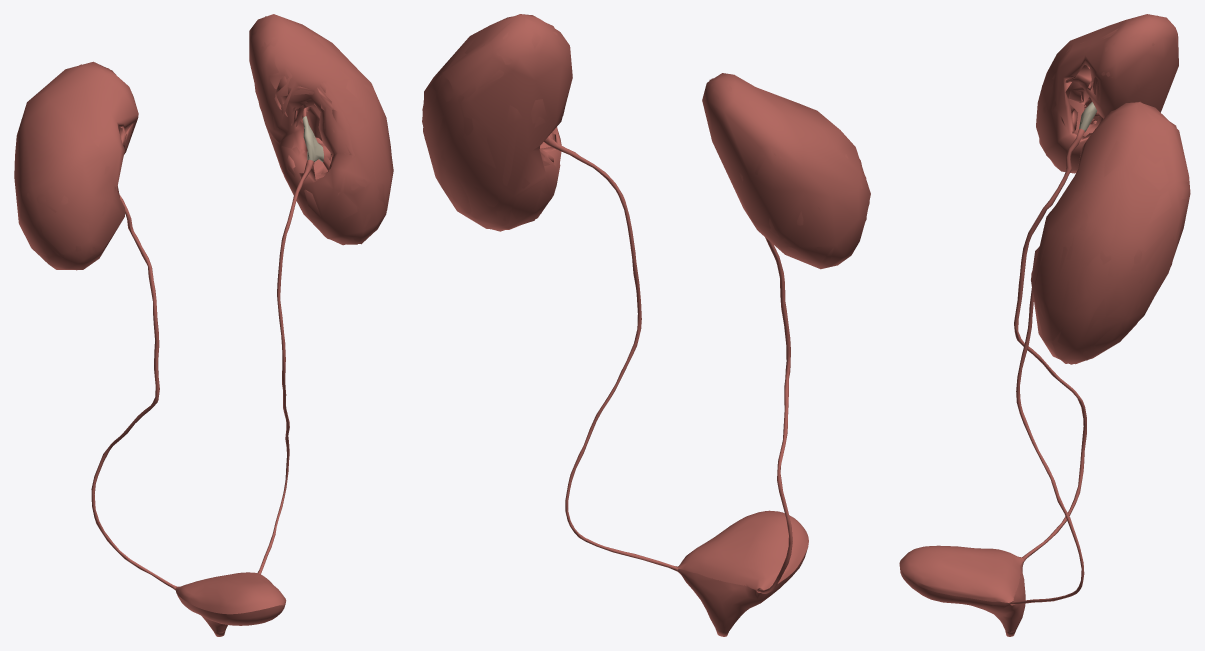
Rendered from adult_female.urinary.LOD3.glb.
The picture shows the model from 3 angles, left to right: view 1: azimuth 30°, elevation 25°; view 2: azimuth 150°, elevation 25°; view 3: azimuth 270°, elevation 25°; orthographic projection. The views are drawn at different scales.
Parts seen in each view (by area): view 1: ADULT.FEMALE.URINARY.KIDNEY_CAPSULE.R, ADULT.FEMALE.URINARY.KIDNEY_CAPSULE.L, ADULT.FEMALE.URINARY.FUNDUS_OF_URINARY_BLADDER_DOME, ADULT.FEMALE.URINARY.OUTER_CORTEX_OF_KIDNEY.L, ADULT.FEMALE.URINARY.URETER.R, ADULT.FEMALE.URINARY.URETER.L, ADULT.FEMALE.URINARY.FUNDUS_OF_URINARY_BLADDER_BASE, ADULT.FEMALE.URINARY.HILUM_OF_KIDNEY.L, ADULT.FEMALE.URINARY.OUTER_CORTEX_OF_KIDNEY.R, ADULT.FEMALE.URINARY.RENAL_PELVIS.L; view 2: ADULT.FEMALE.URINARY.KIDNEY_CAPSULE.R, ADULT.FEMALE.URINARY.KIDNEY_CAPSULE.L, ADULT.FEMALE.URINARY.FUNDUS_OF_URINARY_BLADDER_DOME, ADULT.FEMALE.URINARY.OUTER_CORTEX_OF_KIDNEY.L, ADULT.FEMALE.URINARY.FUNDUS_OF_URINARY_BLADDER_BASE, ADULT.FEMALE.URINARY.URETER.L, ADULT.FEMALE.URINARY.URETER.R; view 3: ADULT.FEMALE.URINARY.KIDNEY_CAPSULE.L, ADULT.FEMALE.URINARY.KIDNEY_CAPSULE.R, ADULT.FEMALE.URINARY.OUTER_CORTEX_OF_KIDNEY.L, ADULT.FEMALE.URINARY.FUNDUS_OF_URINARY_BLADDER_DOME, ADULT.FEMALE.URINARY.URETER.R, ADULT.FEMALE.URINARY.FUNDUS_OF_URINARY_BLADDER_BASE, ADULT.FEMALE.URINARY.URETER.L, ADULT.FEMALE.URINARY.HILUM_OF_KIDNEY.R.
Part boxes in pixels (left/top/right/bottom): ADULT.FEMALE.URINARY.KIDNEY_CAPSULE.R: left=14, top=61, right=138, bottom=270; ADULT.FEMALE.URINARY.KIDNEY_CAPSULE.L: left=249, top=14, right=393, bottom=244; ADULT.FEMALE.URINARY.FUNDUS_OF_URINARY_BLADDER_DOME: left=175, top=572, right=286, bottom=614; ADULT.FEMALE.URINARY.OUTER_CORTEX_OF_KIDNEY.L: left=254, top=16, right=391, bottom=245; ADULT.FEMALE.URINARY.URETER.R: left=91, top=194, right=176, bottom=589; ADULT.FEMALE.URINARY.URETER.L: left=257, top=159, right=313, bottom=574; ADULT.FEMALE.URINARY.FUNDUS_OF_URINARY_BLADDER_BASE: left=176, top=593, right=284, bottom=632; ADULT.FEMALE.URINARY.HILUM_OF_KIDNEY.L: left=275, top=76, right=332, bottom=179; ADULT.FEMALE.URINARY.OUTER_CORTEX_OF_KIDNEY.R: left=36, top=68, right=133, bottom=269; ADULT.FEMALE.URINARY.RENAL_PELVIS.L: left=302, top=116, right=323, bottom=162; ADULT.FEMALE.URINARY.KIDNEY_CAPSULE.R: left=702, top=73, right=870, bottom=269; ADULT.FEMALE.URINARY.KIDNEY_CAPSULE.L: left=422, top=14, right=572, bottom=229; ADULT.FEMALE.URINARY.FUNDUS_OF_URINARY_BLADDER_DOME: left=677, top=510, right=808, bottom=590; ADULT.FEMALE.URINARY.OUTER_CORTEX_OF_KIDNEY.L: left=422, top=32, right=564, bottom=231; ADULT.FEMALE.URINARY.FUNDUS_OF_URINARY_BLADDER_BASE: left=677, top=548, right=807, bottom=632; ADULT.FEMALE.URINARY.URETER.L: left=544, top=135, right=678, bottom=571; ADULT.FEMALE.URINARY.URETER.R: left=757, top=237, right=792, bottom=593; ADULT.FEMALE.URINARY.KIDNEY_CAPSULE.L: left=1031, top=101, right=1190, bottom=364; ADULT.FEMALE.URINARY.KIDNEY_CAPSULE.R: left=1036, top=14, right=1178, bottom=173; ADULT.FEMALE.URINARY.OUTER_CORTEX_OF_KIDNEY.L: left=1031, top=114, right=1189, bottom=363; ADULT.FEMALE.URINARY.FUNDUS_OF_URINARY_BLADDER_DOME: left=899, top=545, right=1024, bottom=602; ADULT.FEMALE.URINARY.URETER.R: left=1014, top=128, right=1086, bottom=561; ADULT.FEMALE.URINARY.FUNDUS_OF_URINARY_BLADDER_BASE: left=900, top=561, right=1025, bottom=631; ADULT.FEMALE.URINARY.URETER.L: left=1010, top=288, right=1084, bottom=605; ADULT.FEMALE.URINARY.HILUM_OF_KIDNEY.R: left=1059, top=64, right=1101, bottom=136.
Size of the model in its own units: 0.2219 by 0.3197 by 0.1422.
